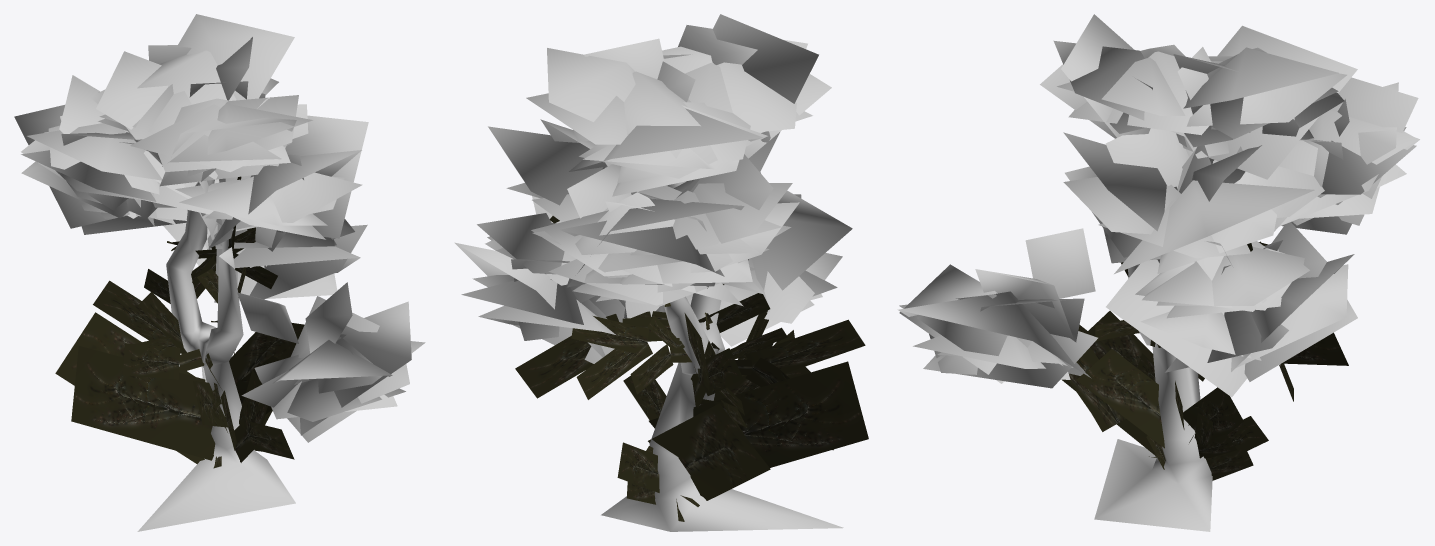
File: tree3Lod1.FBX
3 views of the same model, side by side, from view 1: azimuth 30°, elevation 25°; view 2: azimuth 150°, elevation 25°; view 3: azimuth 270°, elevation 25° (orthographic). The views are drawn at different scales.
Parts seen in each view (by area): view 1: tree3Lod1; view 2: tree3Lod1; view 3: tree3Lod1.
Boxes of the visible parts, x1=… form: tree3Lod1: x1=14, y1=14, x2=425, y2=531; tree3Lod1: x1=454, y1=14, x2=868, y2=531; tree3Lod1: x1=897, y1=14, x2=1419, y2=531.
Size of the model in its own units: 282 by 356 by 364.
